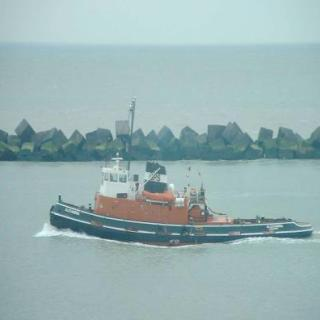Tug Boat: (41, 157, 310, 245)
